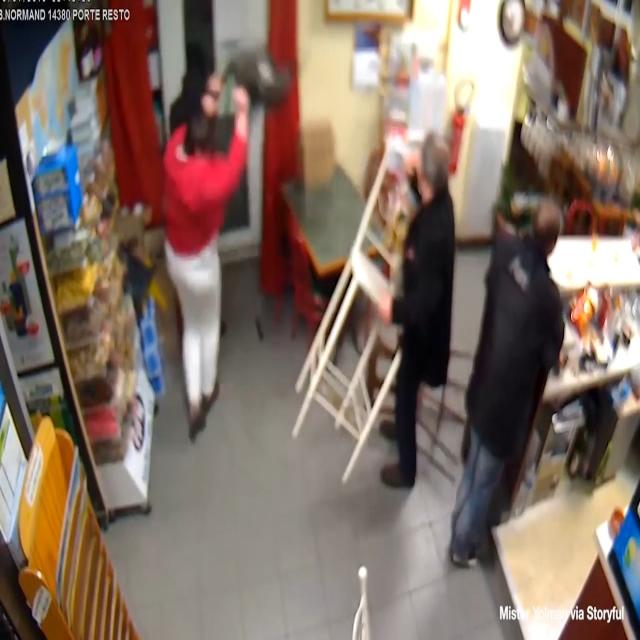fight: (156, 66, 256, 438)
